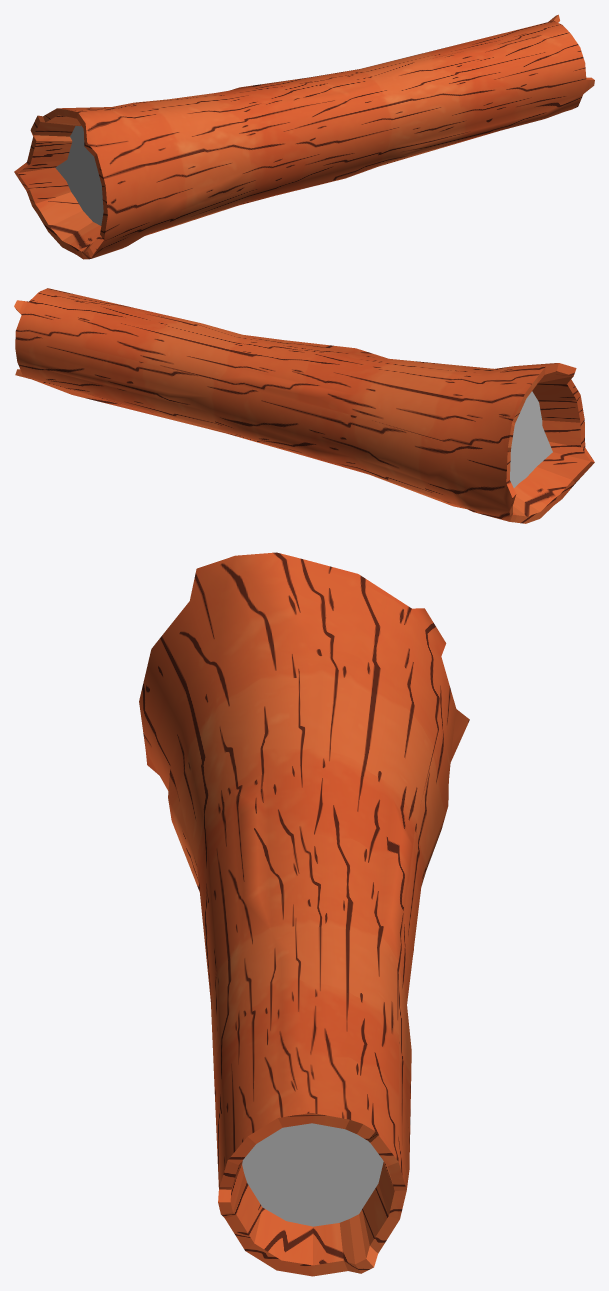
File: FallenTree01.fbx
3 views of the same model, one above another, from view 1: azimuth 30°, elevation 25°; view 2: azimuth 150°, elevation 25°; view 3: azimuth 270°, elevation 25° (orthographic). The views are drawn at different scales.
Visible parts, largest first — view 1: FallenTree01; view 2: FallenTree01; view 3: FallenTree01.
Boxes of the visible parts, x1,y1,x2,y2 form: FallenTree01: [14, 14, 594, 259]; FallenTree01: [14, 288, 594, 523]; FallenTree01: [139, 552, 469, 1276].
Size of the model in its own units: 851 by 227 by 235.
